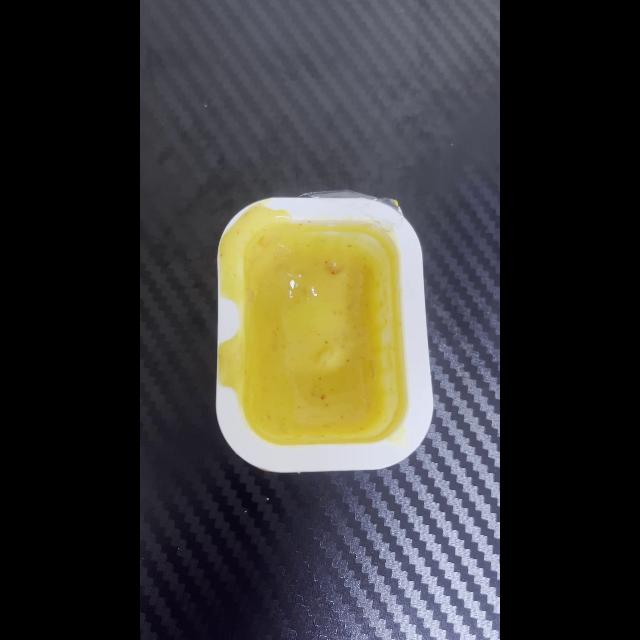dirty: (222, 206, 416, 454)
